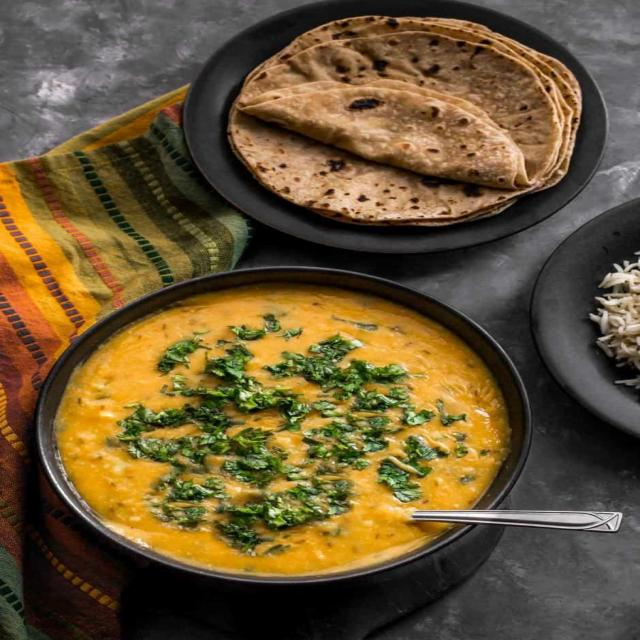dal: (56, 289, 508, 567)
roti: (230, 14, 587, 228)
